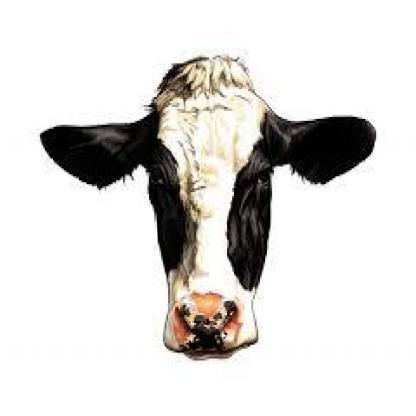cow: (39, 55, 377, 362)
